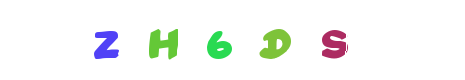6: (180, 0, 260, 80)
D: (193, 0, 273, 80)
H: (178, 0, 258, 80)
S: (294, 0, 374, 80)
Z: (66, 0, 146, 80)
